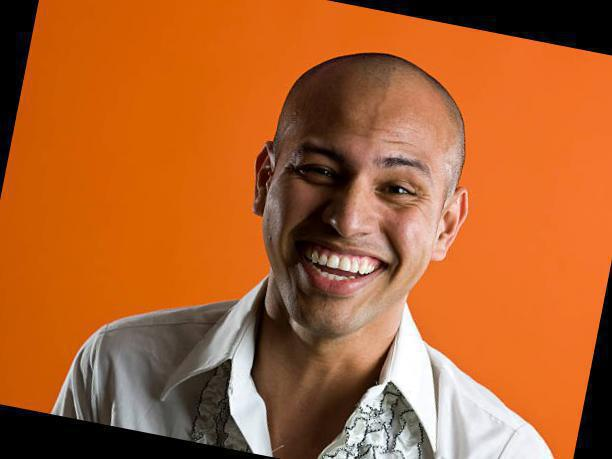Drunk: (286, 79, 427, 330)
